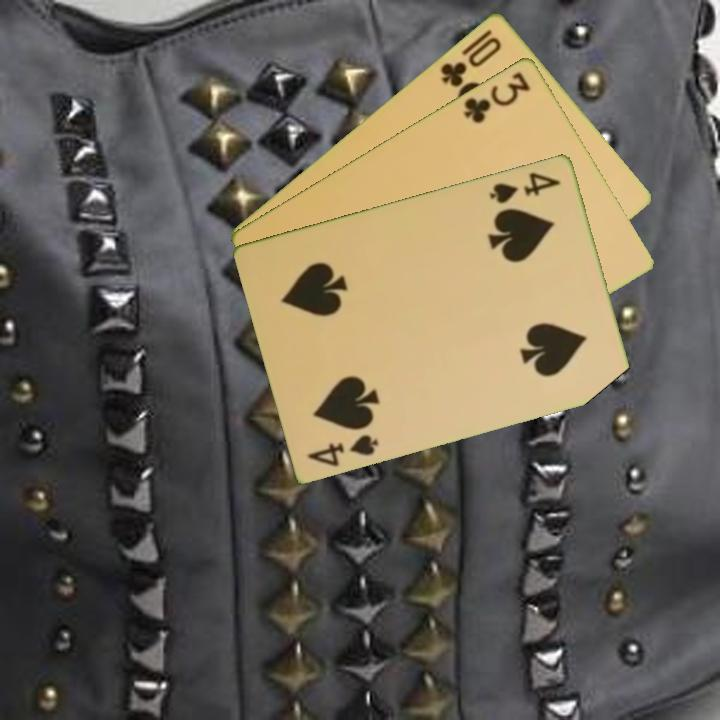10c: (437, 33, 505, 90)
3c: (460, 68, 534, 126)
4s: (304, 430, 382, 469), (486, 168, 564, 206)
